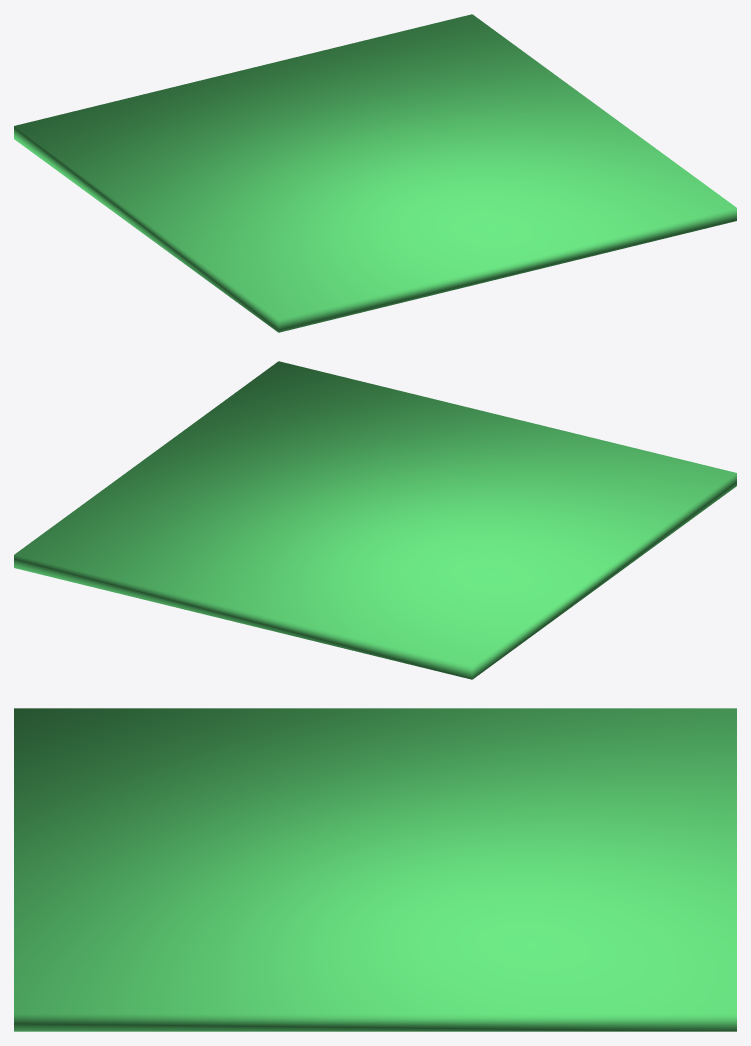
Rendered from piadina_olio_mini.fbx.
3 views of the same model, one above another, from view 1: azimuth 30°, elevation 25°; view 2: azimuth 150°, elevation 25°; view 3: azimuth 270°, elevation 25° (orthographic). The views are drawn at different scales.
Visible parts, largest first — view 1: olio; view 2: olio; view 3: olio.
Part boxes in pixels (box(x1,y1,x2,y2)): olio: box(14, 14, 736, 332); olio: box(14, 361, 736, 679); olio: box(14, 708, 736, 1031).
Bounding box in the file's own units: 200 × 5.47 × 200.
